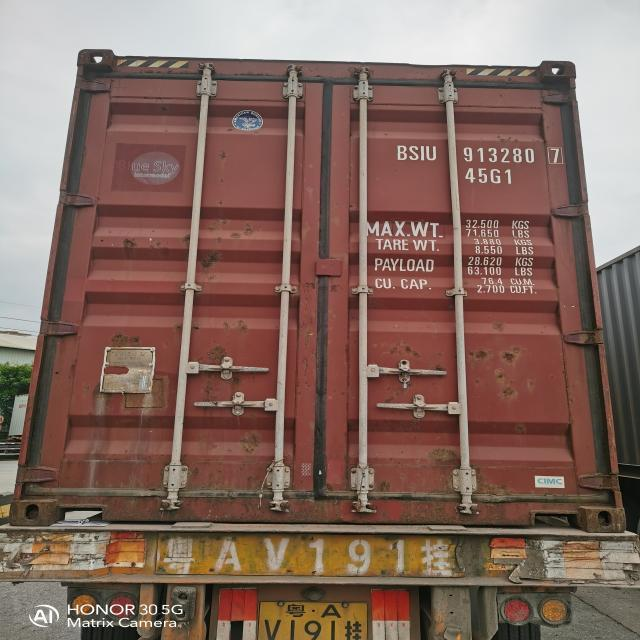ISO: (466, 167, 516, 186)
container_number: (398, 144, 560, 166)
